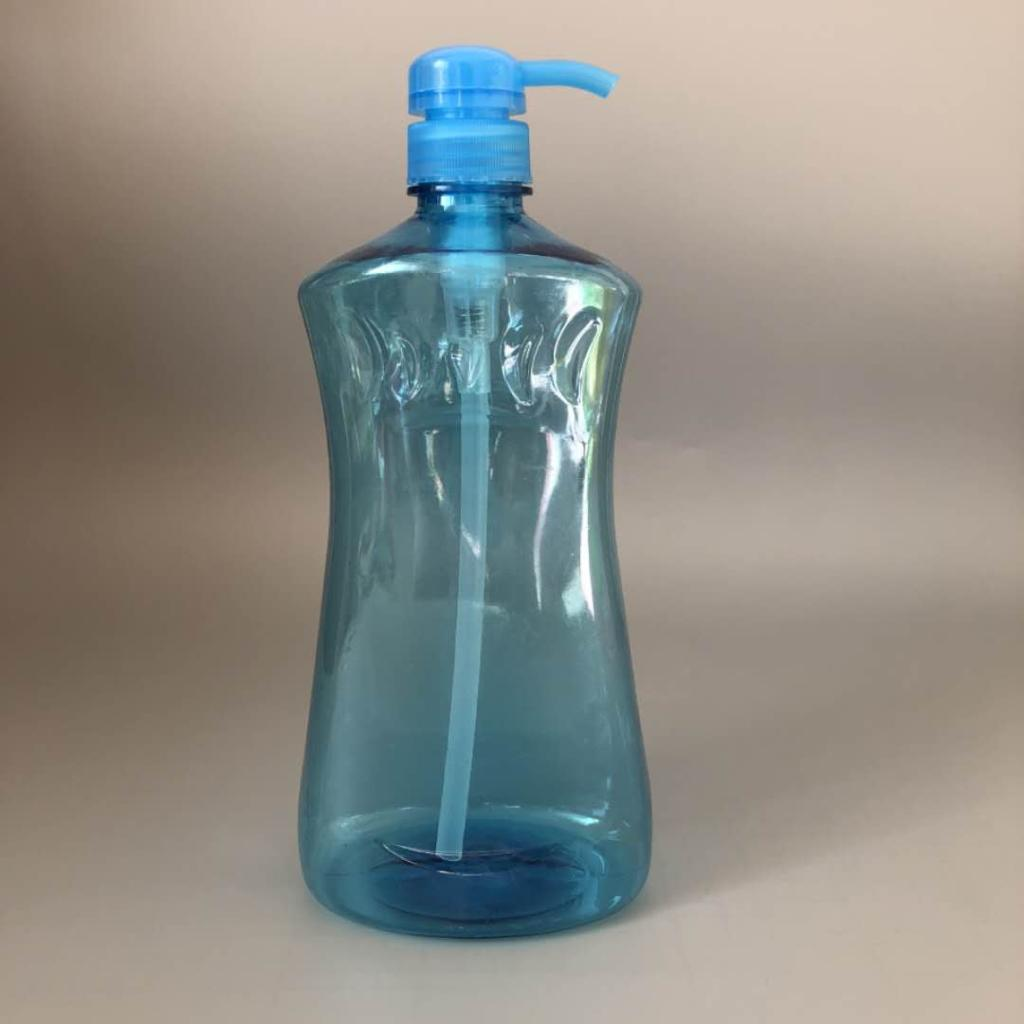organico: (276, 31, 697, 954)
